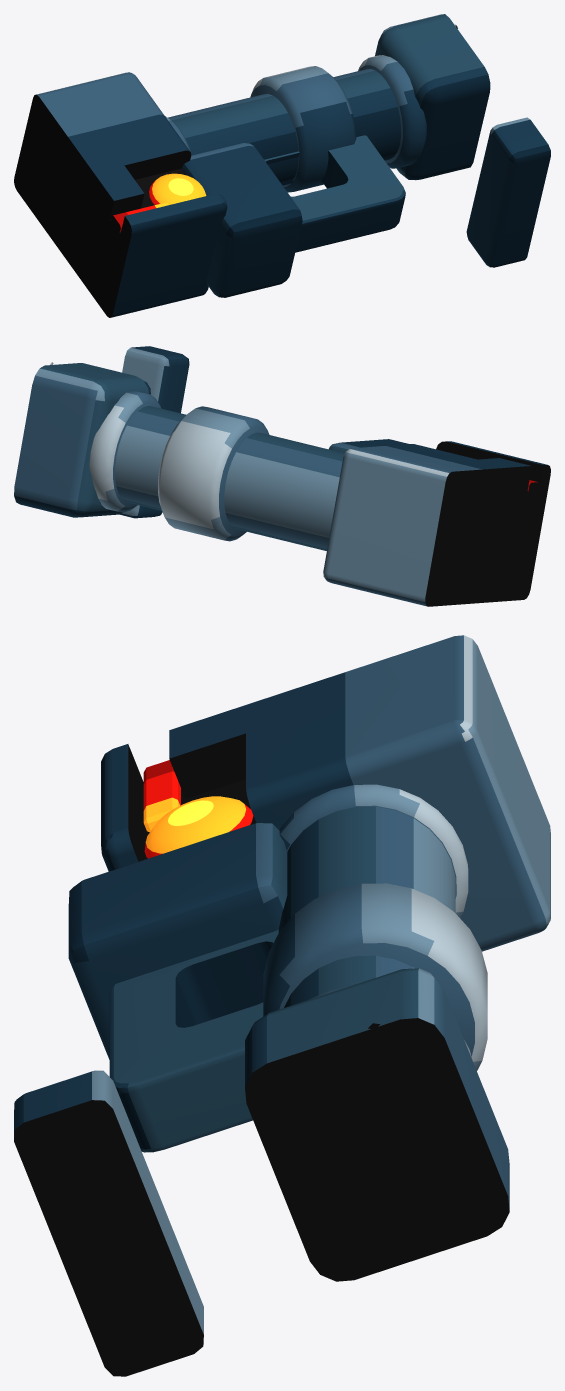
Rendered from deli_cannon_l_barrel.glb.
The picture shows the model from 3 angles, top to bottom: view 1: azimuth 30°, elevation 25°; view 2: azimuth 150°, elevation 25°; view 3: azimuth 270°, elevation 25°; orthographic projection. The views are drawn at different scales.
Parts seen in each view (by area): view 1: housing.001, side_block.001, hull.001, barrel.001, ledge.001, loop.001, collar1.001, collar0.001, lens.001; view 2: housing.001, barrel.001, hull.001, collar1.001, collar0.001, ledge.001, side_block.001; view 3: hull.001, housing.001, ledge.001, side_block.001, loop.001, collar1.001, barrel.001, collar2.001, lens.001, glow_strip.001.
Boxes of the visible parts, x1=… form: housing.001: x1=14, y1=72, x2=227, y2=317; side_block.001: x1=181, y1=143, x2=302, y2=297; hull.001: x1=375, y1=14, x2=490, y2=180; barrel.001: x1=168, y1=68, x2=400, y2=181; ledge.001: x1=466, y1=117, x2=550, y2=267; loop.001: x1=264, y1=135, x2=405, y2=252; collar1.001: x1=250, y1=66, x2=356, y2=192; collar0.001: x1=358, y1=55, x2=426, y2=168; lens.001: x1=149, y1=173, x2=206, y2=204; housing.001: x1=323, y1=441, x2=550, y2=606; barrel.001: x1=115, y1=406, x2=344, y2=550; hull.001: x1=14, y1=363, x2=150, y2=517; collar1.001: x1=158, y1=406, x2=269, y2=541; collar0.001: x1=89, y1=390, x2=161, y2=512; ledge.001: x1=120, y1=346, x2=189, y2=518; side_block.001: x1=329, y1=439, x2=408, y2=453; hull.001: x1=245, y1=968, x2=509, y2=1281; housing.001: x1=101, y1=635, x2=550, y2=951; ledge.001: x1=14, y1=1070, x2=203, y2=1376; side_block.001: x1=68, y1=823, x2=287, y2=1059; loop.001: x1=109, y1=929, x2=278, y2=1152; collar1.001: x1=263, y1=883, x2=487, y2=1070; barrel.001: x1=278, y1=806, x2=455, y2=1007; collar2.001: x1=279, y1=784, x2=468, y2=917; lens.001: x1=144, y1=796, x2=253, y2=858; glow_strip.001: x1=143, y1=760, x2=180, y2=832.
Bounding box in the file's own units: 24 × 11.3 × 14.76.
